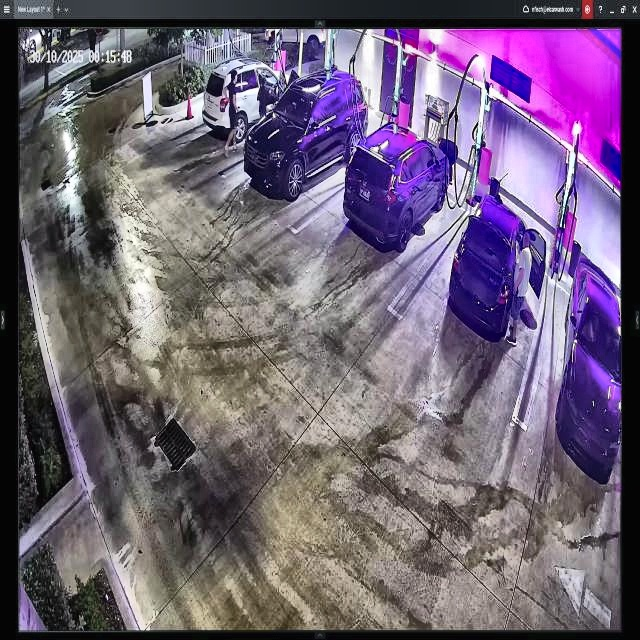Car: (242, 70, 368, 196), (450, 191, 548, 341), (346, 124, 448, 252)
